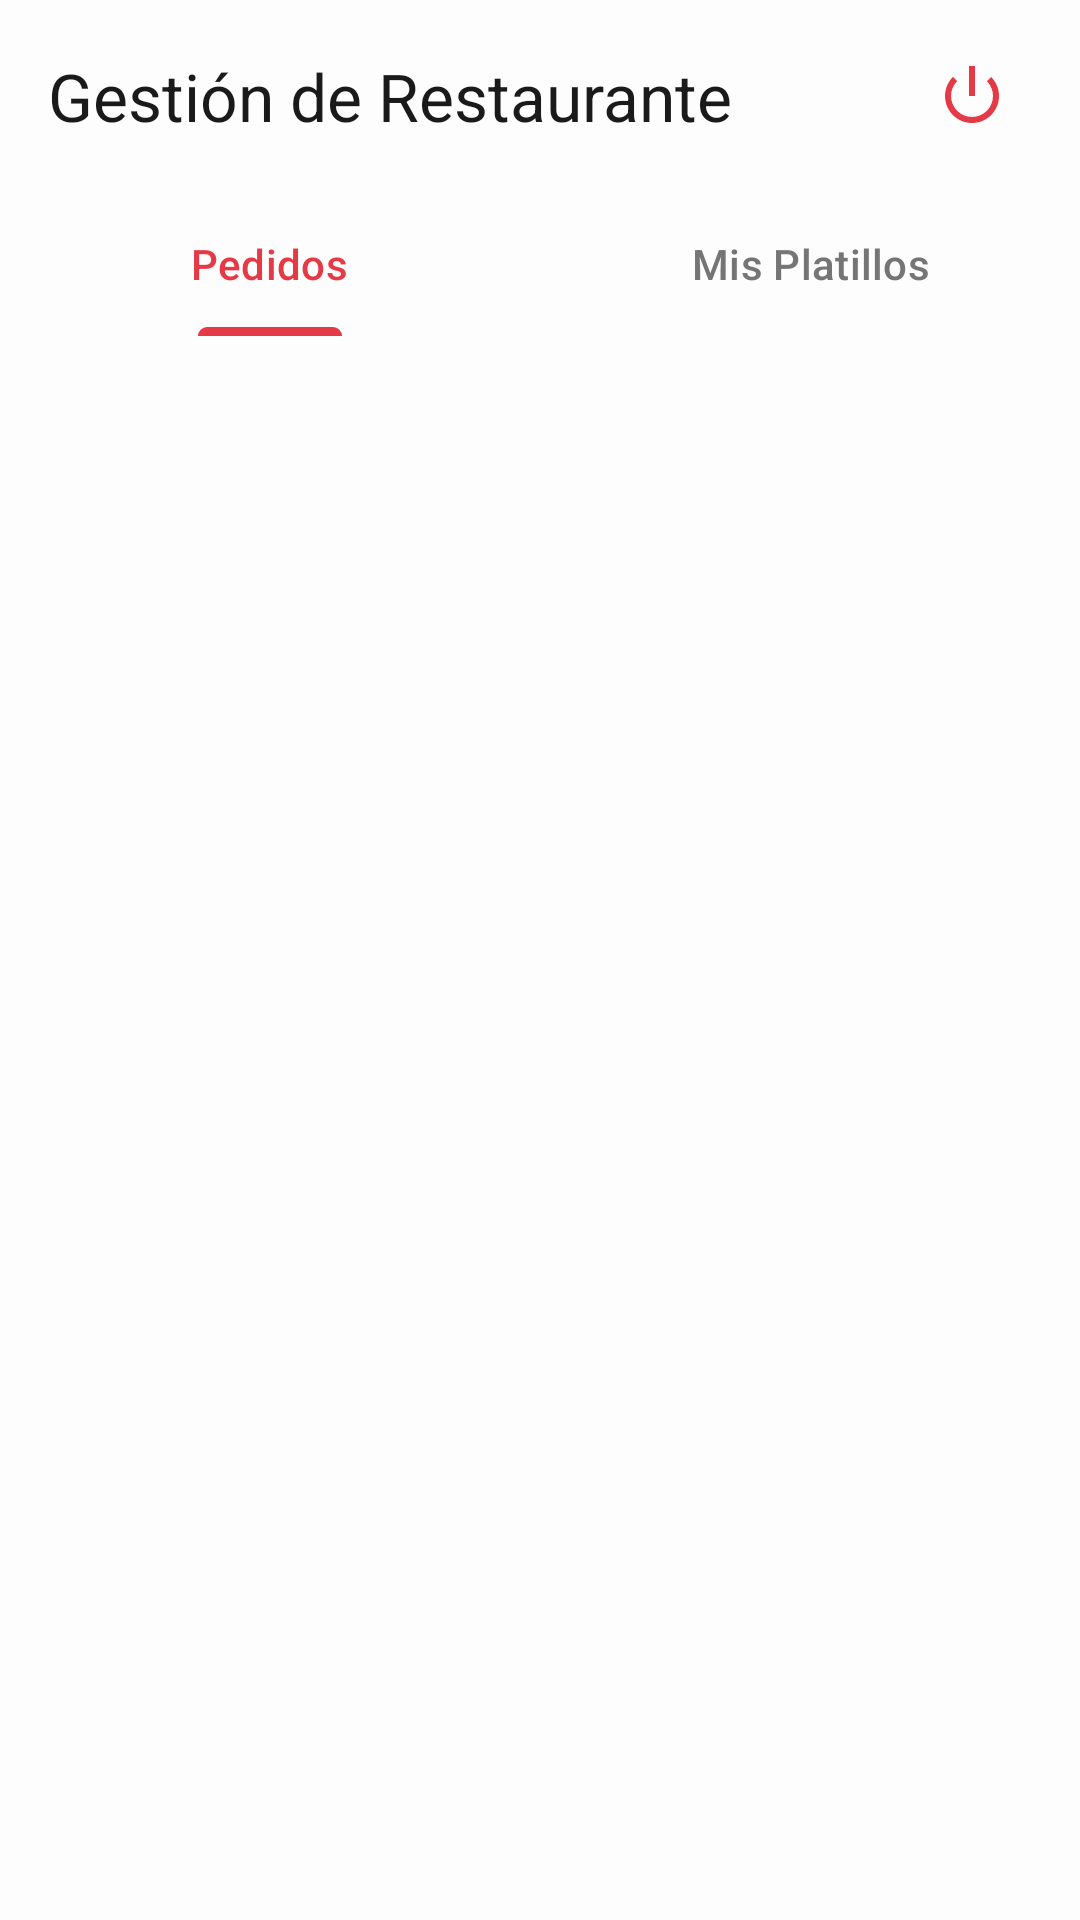

Screen size 1080w x 1920h. Icon name, then its center in pixels as [x,y]:
lock power off: [972,94]
